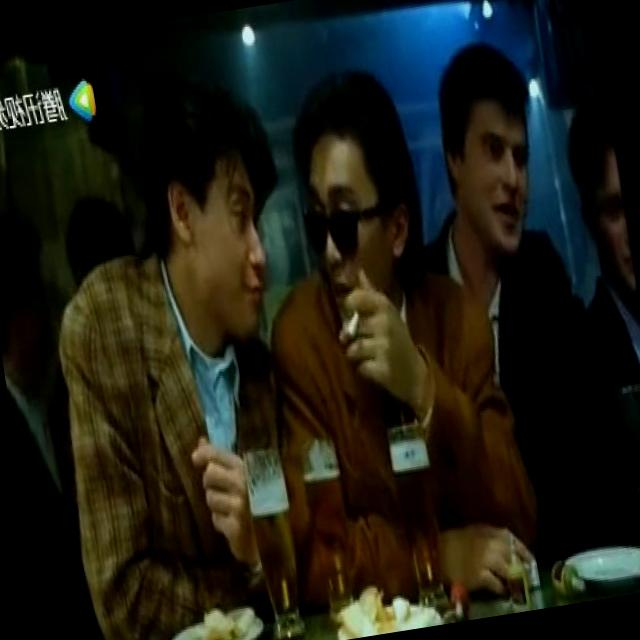smoke: (340, 286, 374, 344)
